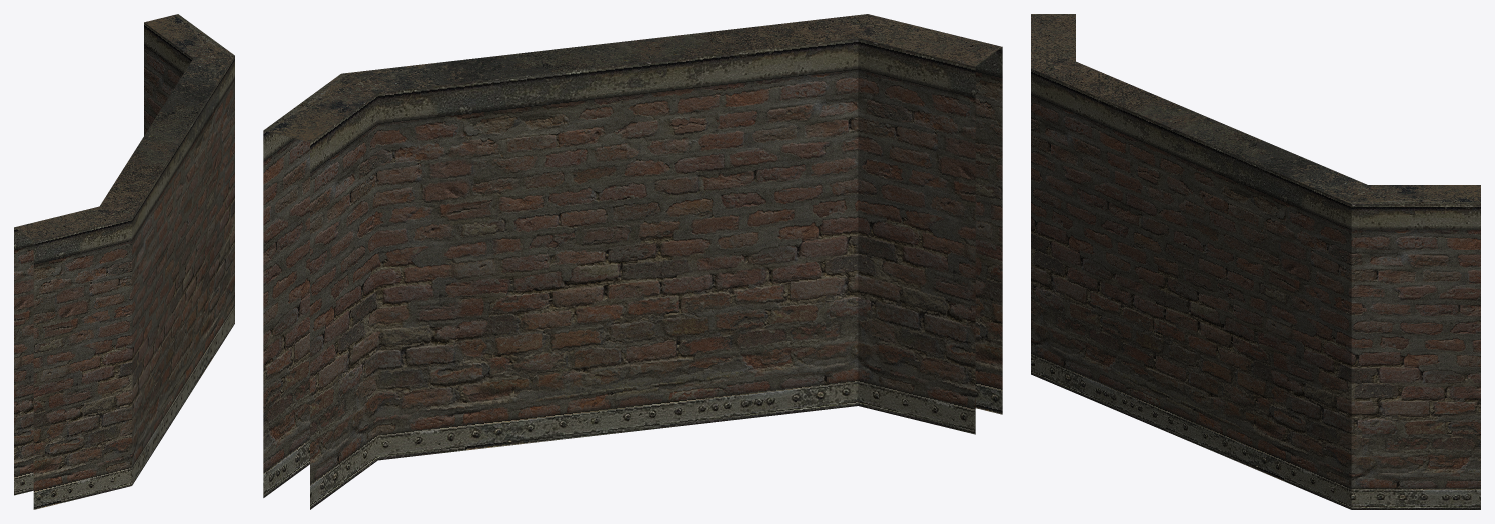
The model's file is wall_hr_1_m1a_1.glb.
3 views of the same model, side by side, from view 1: azimuth 30°, elevation 25°; view 2: azimuth 150°, elevation 25°; view 3: azimuth 270°, elevation 25° (orthographic). The views are drawn at different scales.
Visible parts, largest first — view 1: wall_hr_1_m1a_1; view 2: wall_hr_1_m1a_1; view 3: wall_hr_1_m1a_1.
Part boxes in pixels (x1,y1,x2,y2): wall_hr_1_m1a_1: (14, 14, 234, 509); wall_hr_1_m1a_1: (263, 14, 1002, 509); wall_hr_1_m1a_1: (1031, 14, 1480, 509).
Bounding box in the file's own units: 4 × 3 × 4.
Materials: 2 (2 with a texture image).
